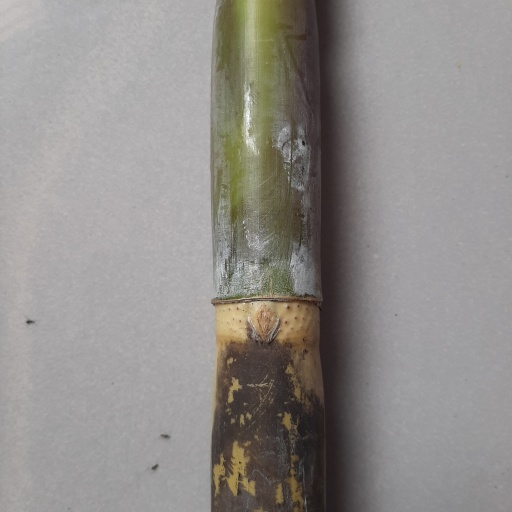Bud: (248, 301, 280, 345)
